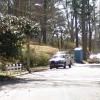Car: (43, 49, 75, 72)
